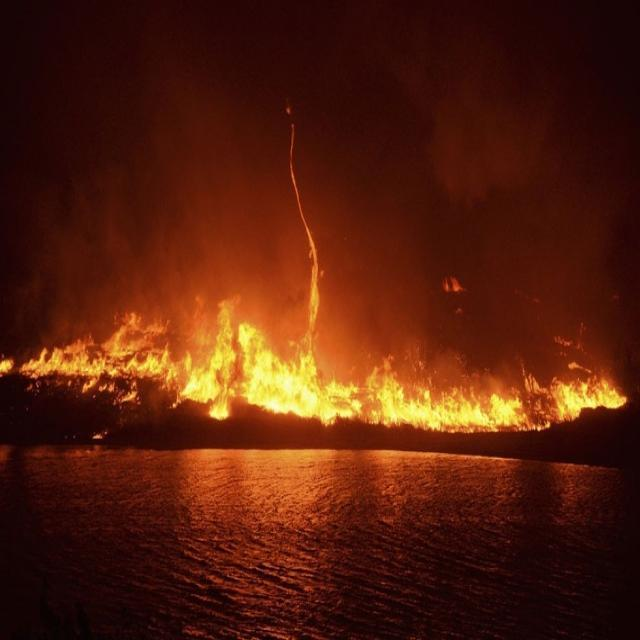Fire: (19, 104, 629, 442), (1, 358, 14, 380)
Smoke: (27, 74, 625, 367)
